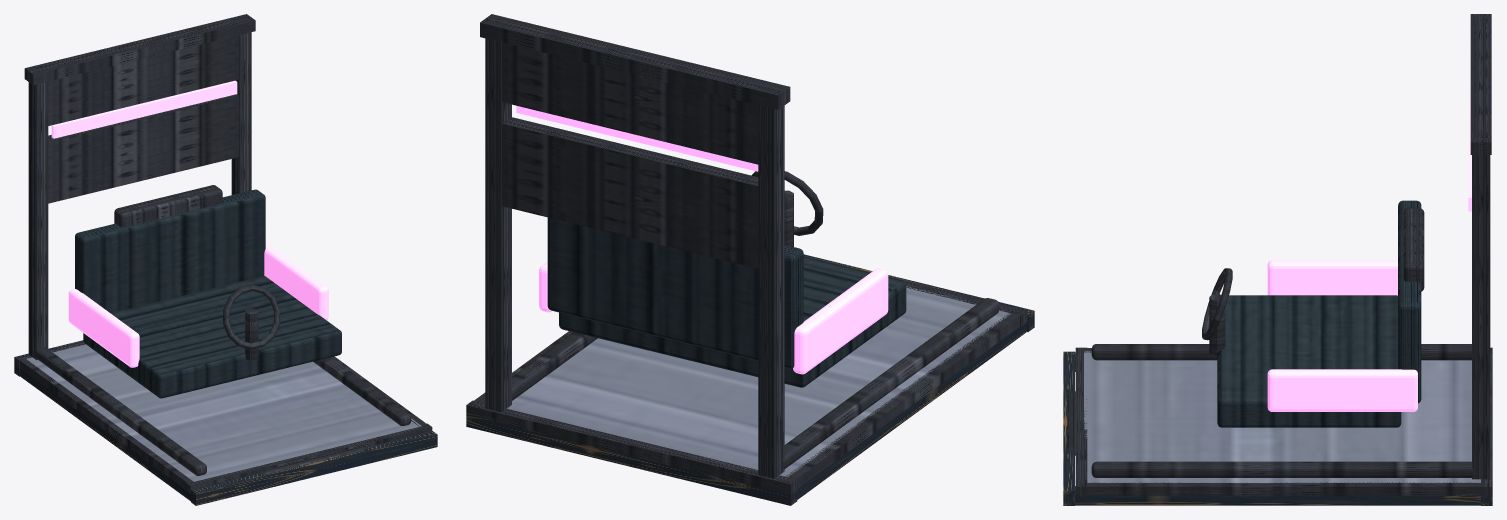
File: fun_racer.glb
The picture shows the model from 3 angles, left to right: view 1: azimuth 30°, elevation 25°; view 2: azimuth 150°, elevation 25°; view 3: azimuth 270°, elevation 25°; orthographic projection. The views are drawn at different scales.
Parts seen in each view (by area): view 1: sight_shell, base, seat, back, shelltoe0, beam0, side0, sightglow, shellrims0, head, side2, shellrim0 (+5 smaller); view 2: sight_shell, base, back, seat, shellrim2, beam0, shellrims0, side0, shelltoe2, shelltoes0, sightglow, beam2 (+3 smaller); view 3: base, seat, sight_shell, beam2, side2, shellrims2, shelltoes2, side0, beam0, back, head, shellrim0 (+5 smaller).
Boxes of the visible parts, bbox=[...] form: sight_shell: bbox=[24, 14, 255, 360]; base: bbox=[26, 343, 421, 481]; seat: bbox=[83, 276, 341, 398]; back: bbox=[75, 189, 265, 312]; shelltoe0: bbox=[191, 431, 437, 505]; beam0: bbox=[35, 347, 206, 475]; side0: bbox=[68, 289, 139, 367]; sightglow: bbox=[51, 80, 237, 138]; shellrims0: bbox=[19, 359, 193, 489]; head: bbox=[114, 185, 222, 227]; side2: bbox=[264, 243, 328, 320]; shellrim0: bbox=[185, 423, 432, 493]; sight_shell: bbox=[480, 14, 790, 478]; base: bbox=[507, 286, 1010, 478]; back: bbox=[547, 217, 803, 368]; seat: bbox=[559, 257, 906, 387]; shellrim2: bbox=[466, 400, 797, 494]; beam0: bbox=[783, 298, 999, 469]; shellrims0: bbox=[785, 313, 1021, 488]; side0: bbox=[793, 268, 888, 374]; shelltoe2: bbox=[466, 410, 797, 505]; shelltoes0: bbox=[797, 313, 1028, 499]; sightglow: bbox=[516, 105, 758, 171]; beam2: bbox=[512, 332, 597, 400]; base: bbox=[1084, 351, 1480, 482]; seat: bbox=[1217, 295, 1401, 427]; sight_shell: bbox=[1470, 14, 1491, 479]; beam2: bbox=[1091, 461, 1474, 477]; side2: bbox=[1267, 369, 1417, 411]; shellrims2: bbox=[1087, 482, 1480, 495]; shelltoes2: bbox=[1075, 486, 1480, 505]; side0: bbox=[1267, 260, 1397, 295]; beam0: bbox=[1091, 344, 1471, 360]; back: bbox=[1398, 200, 1421, 403]; head: bbox=[1403, 208, 1424, 291]; shellrim0: bbox=[1075, 347, 1087, 496].
Bounding box in the file's own units: 1.42 × 1.7 × 1.85.
Materials: 7 (5 with a texture image).
